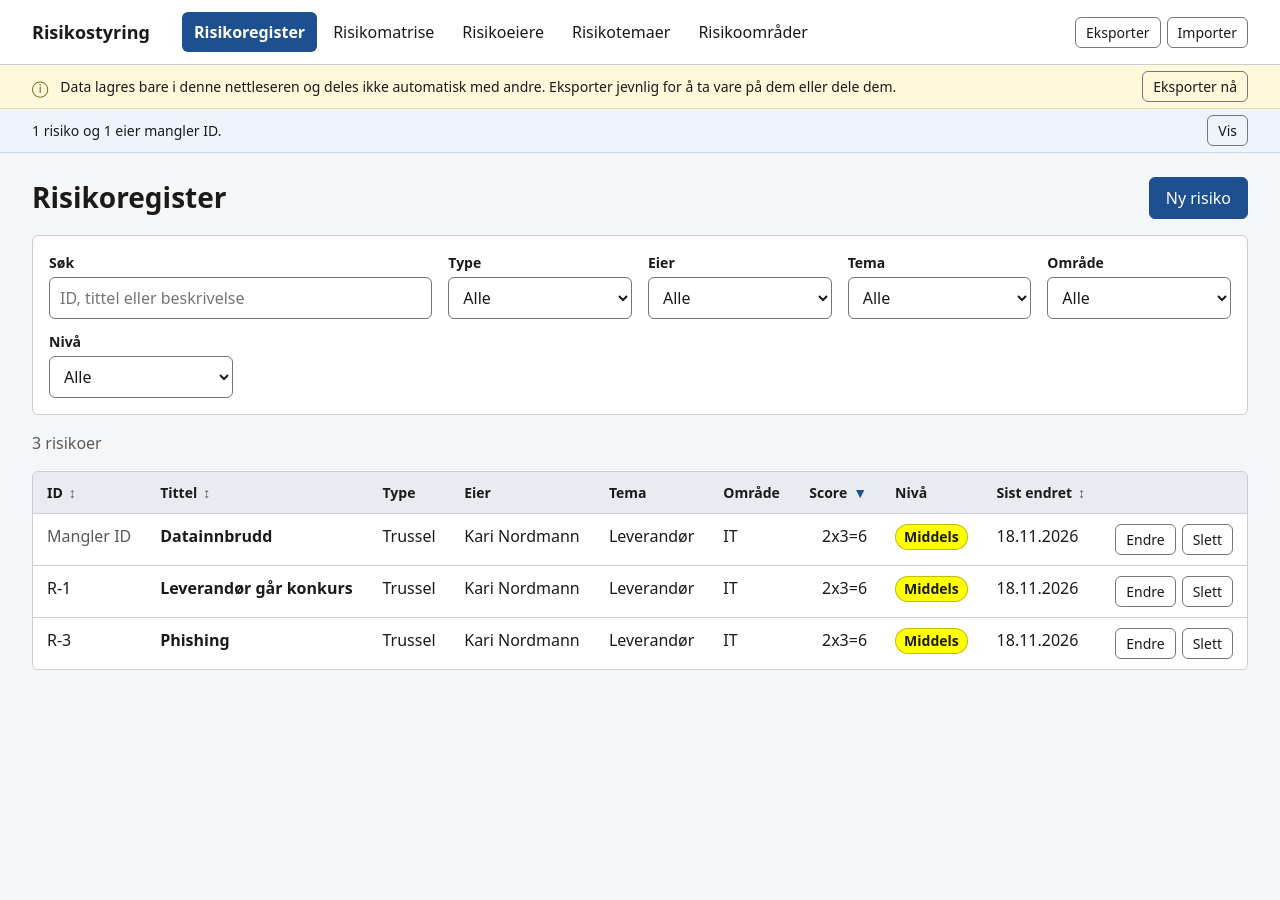
varsel om elementer uten ID (spec 004, K54) › viser lenker til hvert element når man trykker «Vis»
The width and height of the screenshot is (1280, 900).
Expected: the heading "Risikoregister" is shown, top-left (32, 181), bottom-right (226, 215)
Click the button "Vis".
click(1228, 130)  # box top-left (1207, 115), bottom-right (1248, 146)
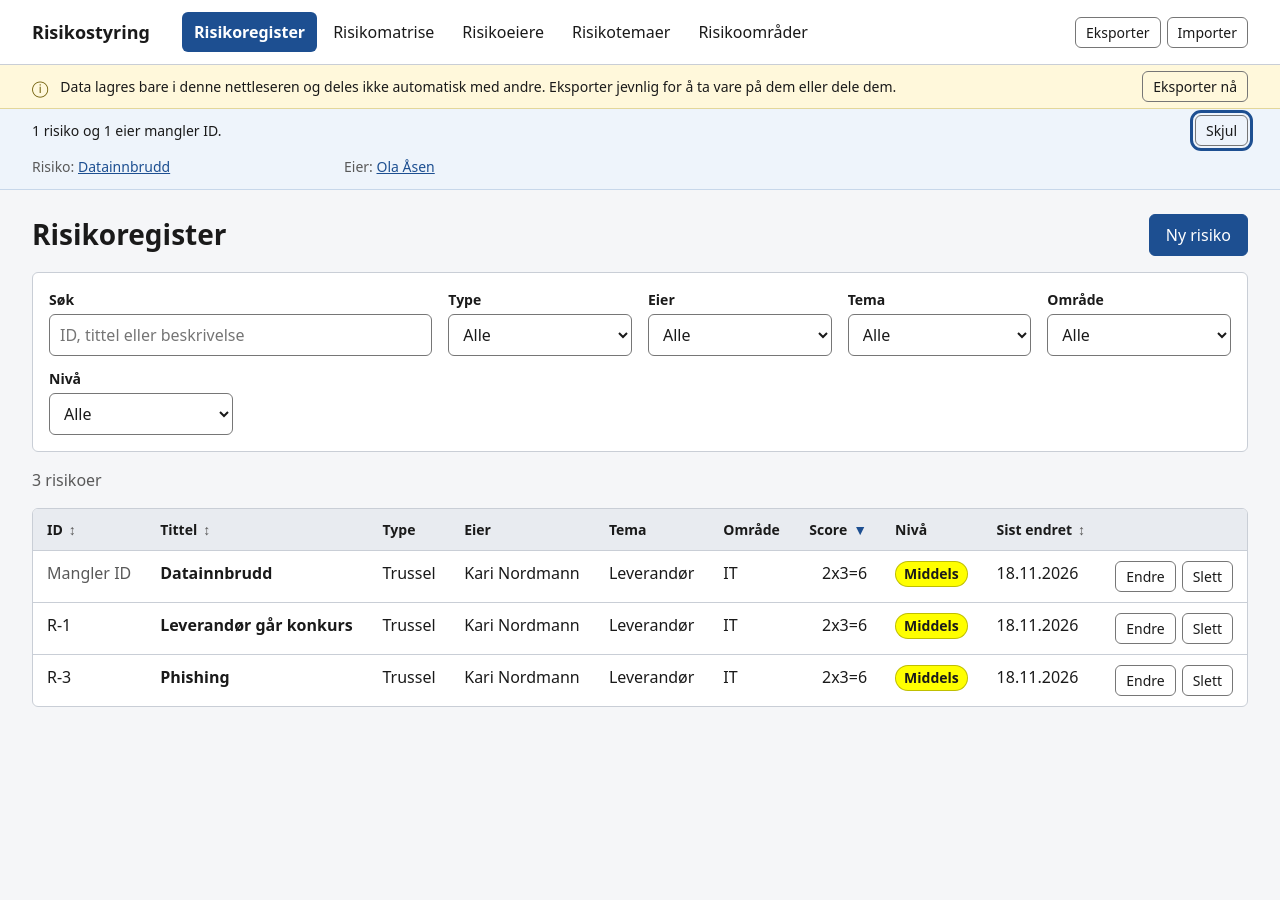
Expected: the button "Skjul" is expanded, top-left (1195, 115), bottom-right (1248, 146)
Expected: the list items read "Risiko: Datainnbrudd", "Eier: Ola Åsen", in this order, top-left (32, 157), bottom-right (170, 176); top-left (344, 157), bottom-right (435, 176)
